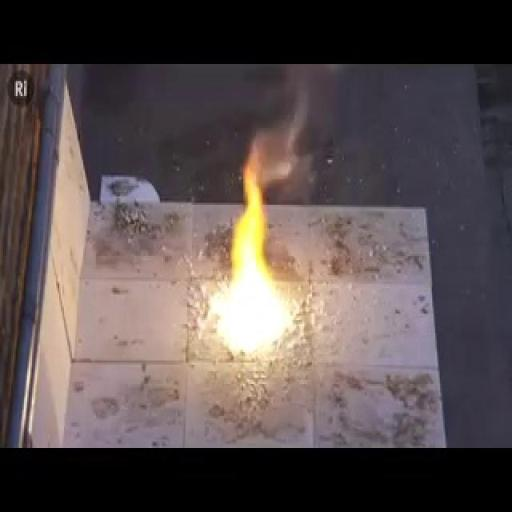smoke: (204, 171, 303, 364)
